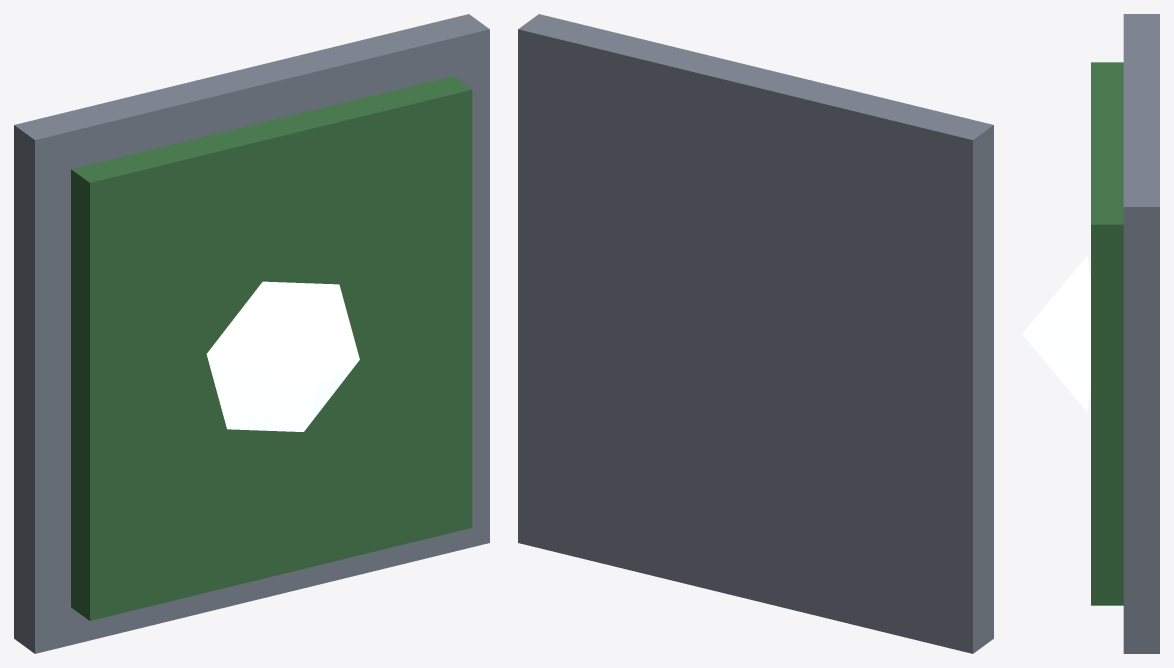
The model's file is armor_lord_chest_uncommon_human.glb.
3 renders of one model, left to right at view 1: azimuth 30°, elevation 25°; view 2: azimuth 150°, elevation 25°; view 3: azimuth 270°, elevation 25°, orthographic. The views are drawn at different scales.
Visible parts, largest first — view 1: armor_lord_chest_uncommon_human__spine_03; view 2: armor_lord_chest_uncommon_human__spine_03; view 3: armor_lord_chest_uncommon_human__spine_03.
Part boxes in pixels (bbox=[...]): armor_lord_chest_uncommon_human__spine_03: bbox=[14, 14, 489, 653]; armor_lord_chest_uncommon_human__spine_03: bbox=[518, 14, 993, 653]; armor_lord_chest_uncommon_human__spine_03: bbox=[1022, 14, 1159, 653].
Size of the model in its own units: 12.6 by 13.6 by 3.8.
